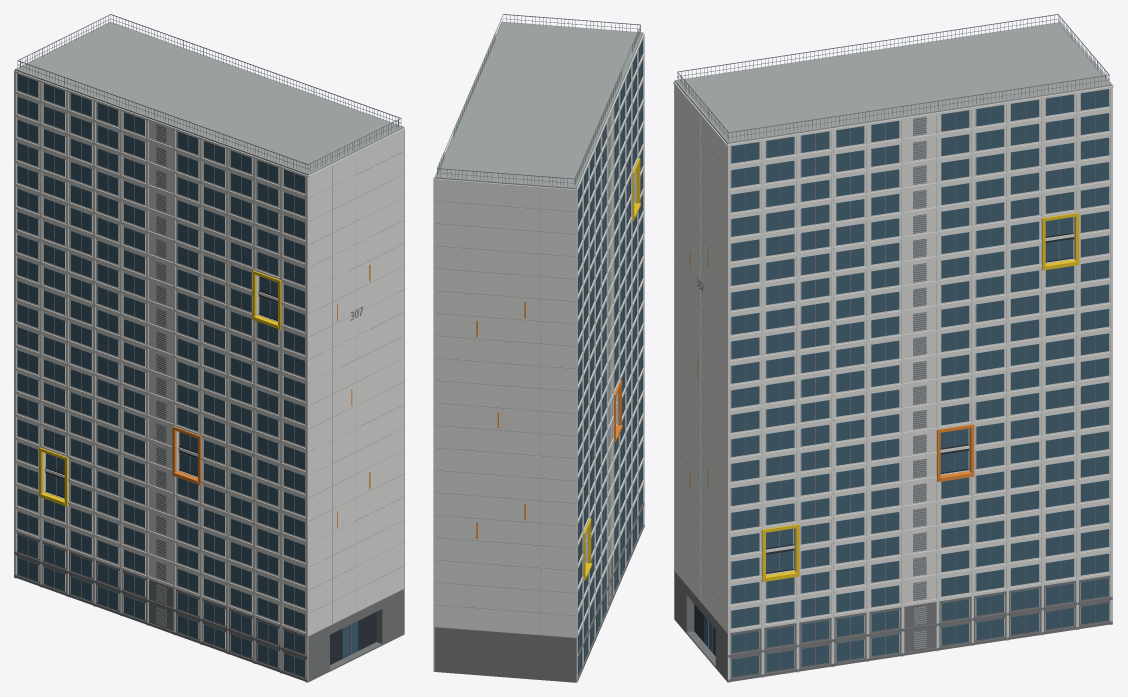
The model's file is bespoke-songpa-helio-city-307.glb.
The picture shows the model from 3 angles, left to right: view 1: azimuth 30°, elevation 25°; view 2: azimuth 150°, elevation 25°; view 3: azimuth 270°, elevation 25°; orthographic projection. The views are drawn at different scales.
Parts seen in each view (by area): view 1: Helio307_editable_Helio307_white_slab_frames, Helio307_editable_Helio307_dark_blue_grey_glazing, Helio307_editable_Helio307_low_roof_deck, Helio307_editable_Helio307_grey_service_grille, Helio307_editable_Helio307_dark_grey_twofloor_base, Helio307_editable_Helio307_blankwall_grey_panels, Helio307_editable_Helio307_yellow_projecting_rectangular_fra, Helio307_editable_Helio307_deep_shaded_frame_recess, Helio307_editable_Helio307_orange_narrow_accent; view 2: Helio307_editable_Helio307_white_slab_frames, Helio307_editable_Helio307_low_roof_deck, Helio307_editable_Helio307_dark_blue_grey_glazing, Helio307_editable_Helio307_grey_service_grille, Helio307_editable_Helio307_dark_grey_twofloor_base, Helio307_editable_Helio307_blankwall_grey_panels, Helio307_editable_Helio307_yellow_projecting_rectangular_fra, Helio307_editable_Helio307_orange_narrow_accent; view 3: Helio307_editable_Helio307_white_slab_frames, Helio307_editable_Helio307_dark_blue_grey_glazing, Helio307_editable_Helio307_low_roof_deck, Helio307_editable_Helio307_grey_service_grille, Helio307_editable_Helio307_dark_grey_twofloor_base, Helio307_editable_Helio307_blankwall_grey_panels, Helio307_editable_Helio307_yellow_projecting_rectangular_fra, Helio307_editable_Helio307_deep_shaded_frame_recess, Helio307_editable_Helio307_orange_narrow_accent.
Boxes of the visible parts, bbox=[...] form: Helio307_editable_Helio307_white_slab_frames: bbox=[14, 69, 404, 682]; Helio307_editable_Helio307_dark_blue_grey_glazing: bbox=[17, 74, 358, 676]; Helio307_editable_Helio307_low_roof_deck: bbox=[15, 21, 403, 175]; Helio307_editable_Helio307_grey_service_grille: bbox=[17, 14, 403, 673]; Helio307_editable_Helio307_dark_grey_twofloor_base: bbox=[14, 532, 403, 682]; Helio307_editable_Helio307_blankwall_grey_panels: bbox=[156, 124, 356, 626]; Helio307_editable_Helio307_yellow_projecting_rectangular_fra: bbox=[39, 270, 281, 506]; Helio307_editable_Helio307_deep_shaded_frame_recess: bbox=[45, 290, 376, 664]; Helio307_editable_Helio307_orange_narrow_accent: bbox=[172, 264, 370, 527]; Helio307_editable_Helio307_white_slab_frames: bbox=[433, 22, 644, 682]; Helio307_editable_Helio307_low_roof_deck: bbox=[434, 21, 643, 189]; Helio307_editable_Helio307_dark_blue_grey_glazing: bbox=[578, 40, 642, 674]; Helio307_editable_Helio307_grey_service_grille: bbox=[435, 14, 640, 671]; Helio307_editable_Helio307_dark_grey_twofloor_base: bbox=[434, 485, 644, 682]; Helio307_editable_Helio307_blankwall_grey_panels: bbox=[470, 113, 611, 634]; Helio307_editable_Helio307_yellow_projecting_rectangular_fra: bbox=[582, 158, 640, 580]; Helio307_editable_Helio307_orange_narrow_accent: bbox=[476, 302, 622, 538]; Helio307_editable_Helio307_white_slab_frames: bbox=[673, 24, 1113, 682]; Helio307_editable_Helio307_dark_blue_grey_glazing: bbox=[704, 89, 1108, 677]; Helio307_editable_Helio307_low_roof_deck: bbox=[674, 22, 1112, 143]; Helio307_editable_Helio307_grey_service_grille: bbox=[674, 14, 1109, 675]; Helio307_editable_Helio307_dark_grey_twofloor_base: bbox=[674, 571, 1112, 682]; Helio307_editable_Helio307_blankwall_grey_panels: bbox=[700, 116, 926, 648]; Helio307_editable_Helio307_yellow_projecting_rectangular_fra: bbox=[762, 212, 1079, 581]; Helio307_editable_Helio307_deep_shaded_frame_recess: bbox=[694, 217, 1073, 655]; Helio307_editable_Helio307_orange_narrow_accent: bbox=[689, 248, 974, 489].
Size of the model in its own units: 29.79 by 62.6 by 45.5.
